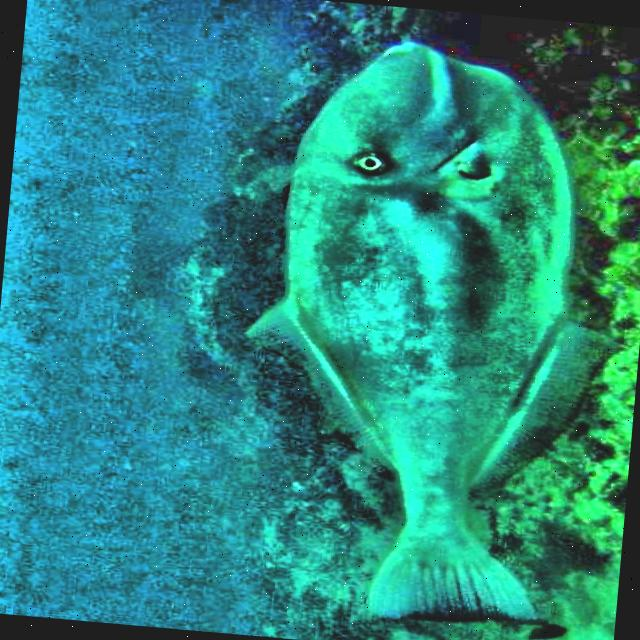fish: (219, 24, 626, 636)
